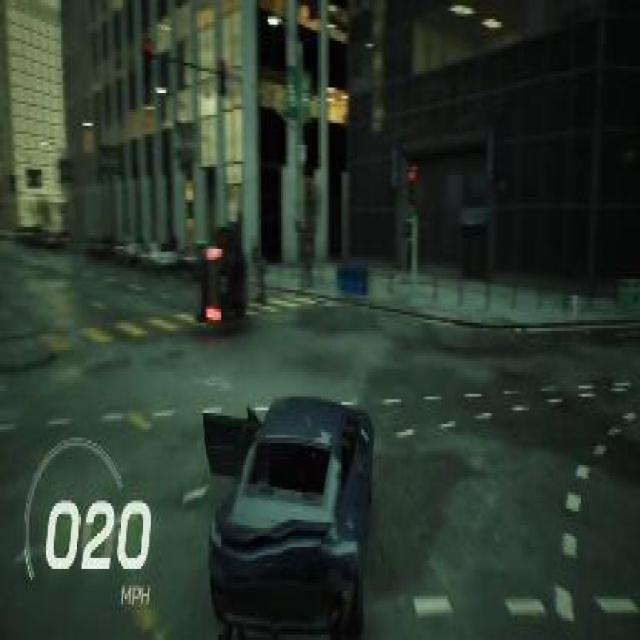accident: (182, 189, 262, 331)
